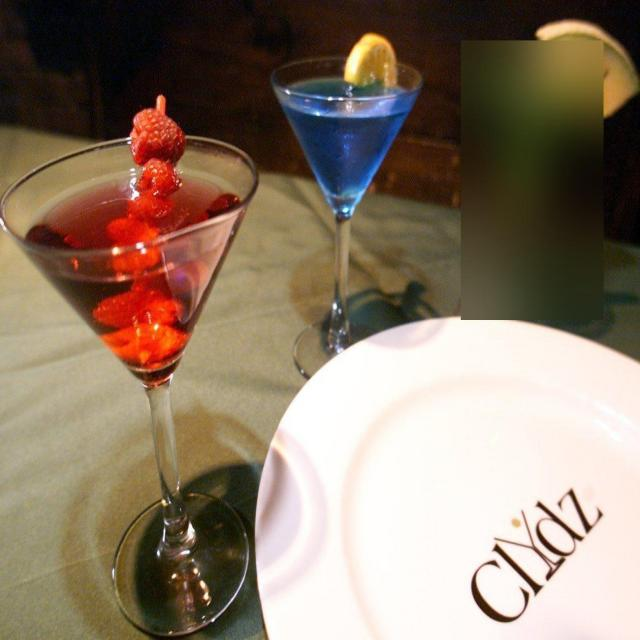glass-wine: (0, 133, 258, 636), (270, 49, 424, 380)
